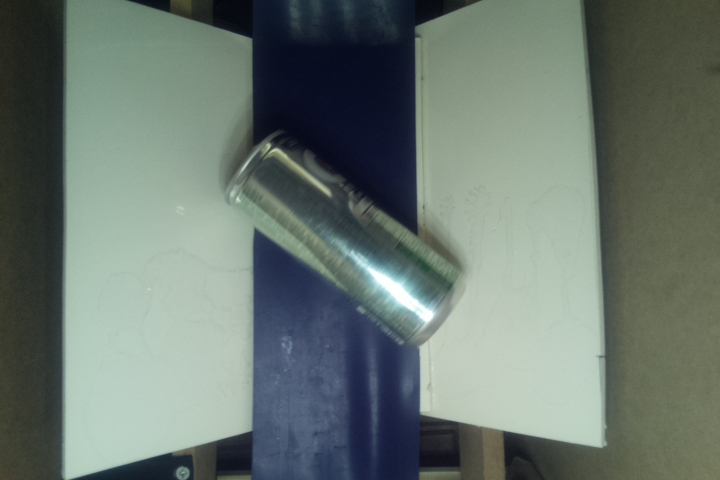can: (223, 126, 474, 352)
